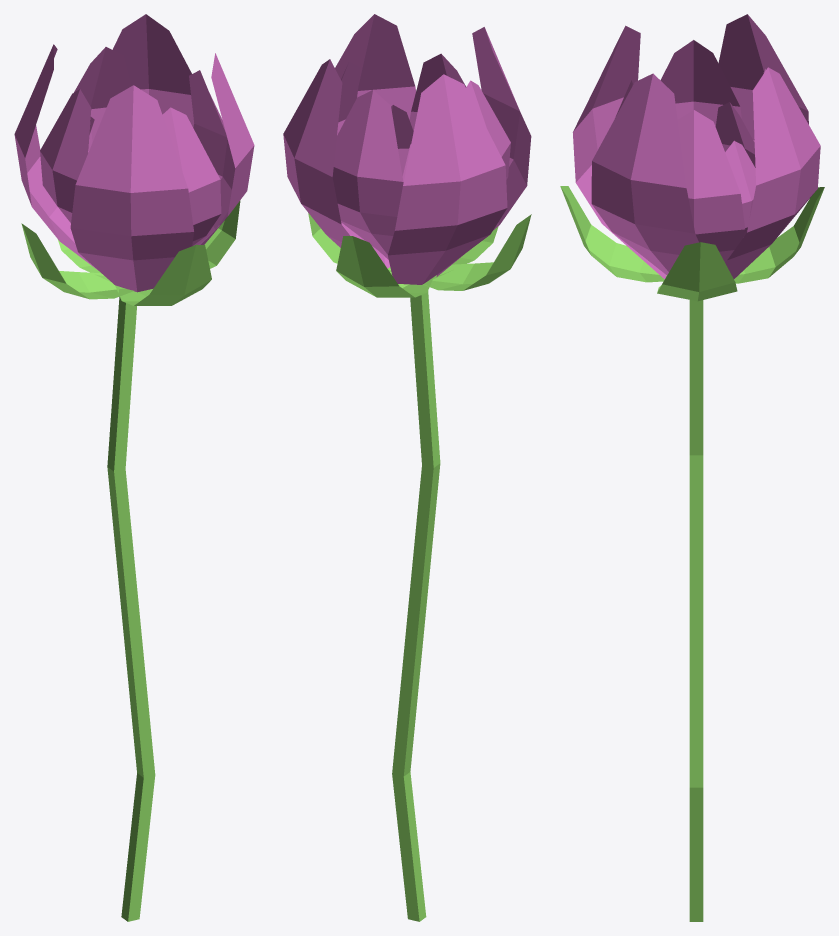
The model's file is FlorRoxa.fbx.
3 views of the same model, side by side, from view 1: azimuth 30°, elevation 25°; view 2: azimuth 150°, elevation 25°; view 3: azimuth 270°, elevation 25° (orthographic).
Visible parts, largest first — view 1: Cube; view 2: Cube; view 3: Cube.
Part boxes in pixels (x1,y1,x2,y2): Cube: (14,14,254,921); Cube: (283,14,531,921); Cube: (560,14,824,921).
Size of the model in its own units: 252 by 934 by 255.
